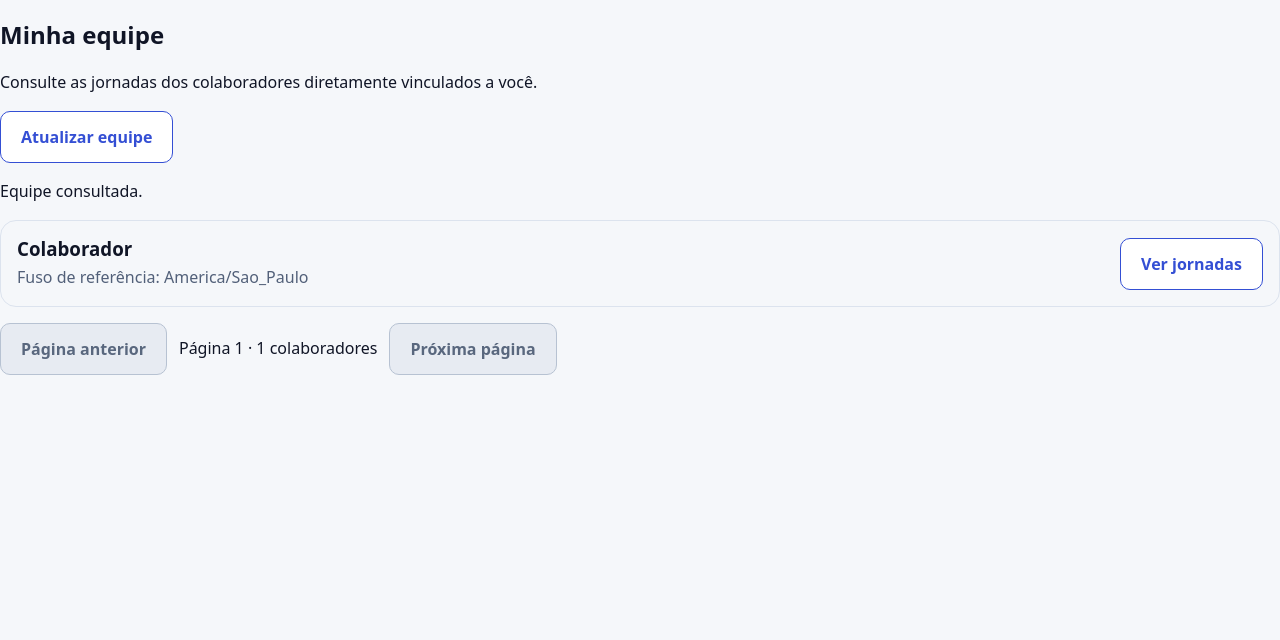
Test: ManagerDashboardComponent › lists only the server-provided team and opens manager-scoped history
The image size is (1280, 640).
What coordinates should you click on to do the following:
click the button with aria-label "Ver jornadas de Colaborador"
I would click on:
 (1192, 264)
Its box is [1120, 238, 1263, 290].
(page scrolled)
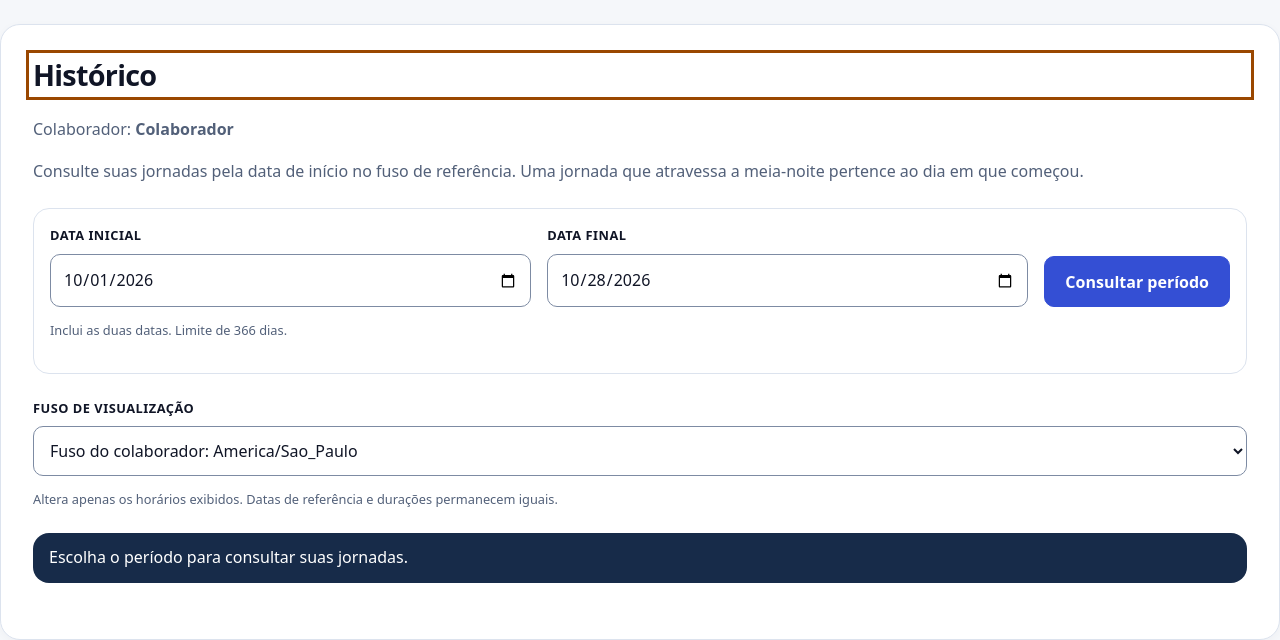
Check: the element that starts with "Histórico" is shown
Check: the text "Colaborador:" is shown, box [33, 118, 135, 140]
